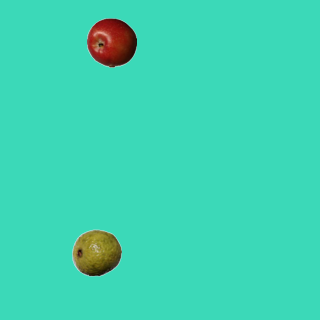Apple Braeburn: (86, 17, 136, 67)
Guava: (71, 227, 121, 277)
